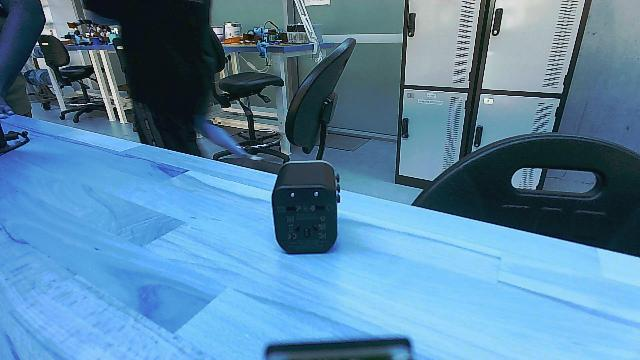adapter: (272, 159, 344, 259)
